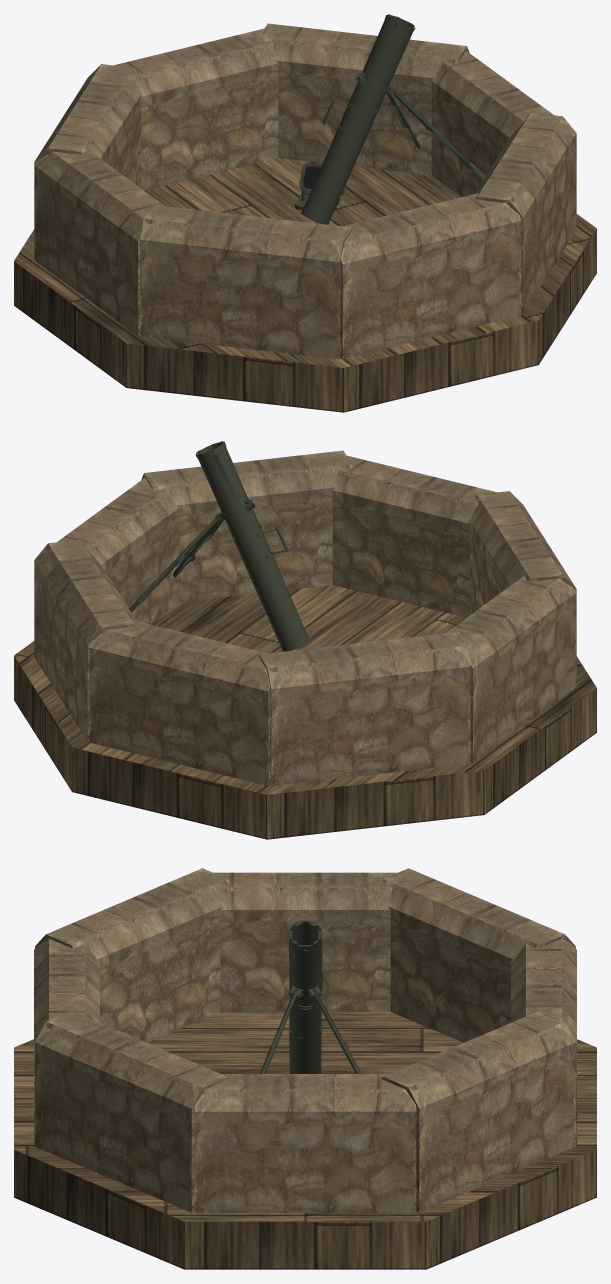
The model's file is sting.glb.
3 renders of one model, top to bottom at view 1: azimuth 30°, elevation 25°; view 2: azimuth 150°, elevation 25°; view 3: azimuth 270°, elevation 25°, orthographic. The views are drawn at different scales.
Parts seen in each view (by area): view 1: SM_Stinger; view 2: SM_Stinger; view 3: SM_Stinger.
Boxes of the visible parts, x1,y1,x2,y2 form: SM_Stinger: (14, 14, 596, 412); SM_Stinger: (14, 441, 596, 839); SM_Stinger: (14, 868, 596, 1269).
Size of the model in its own units: 4.4 by 2.25 by 4.4.
Materials: 4 (2 with a texture image).
